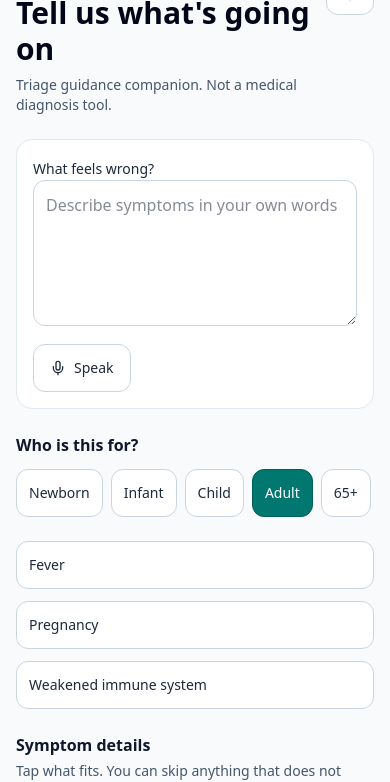
it: IntakeCanvas consumer flow › shows the actionable BYOK failure message without technical details
The image size is (390, 782).
Type "mild headache" into the text box labelled "What feels wrong?" at (195, 253), box [33, 180, 357, 326]
(page scrolled)
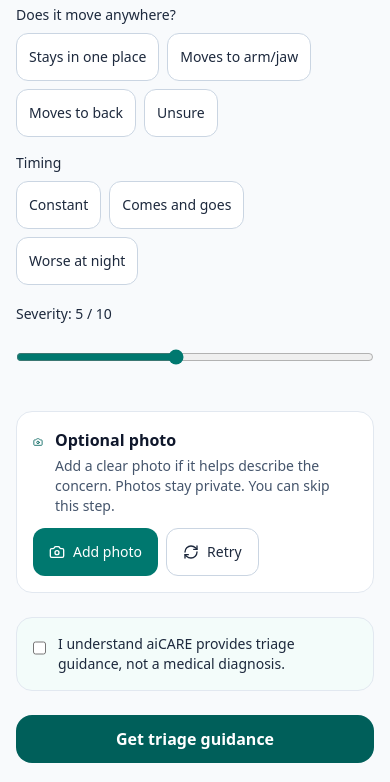
Click the checkbox at (40, 648), box [33, 638, 46, 658]
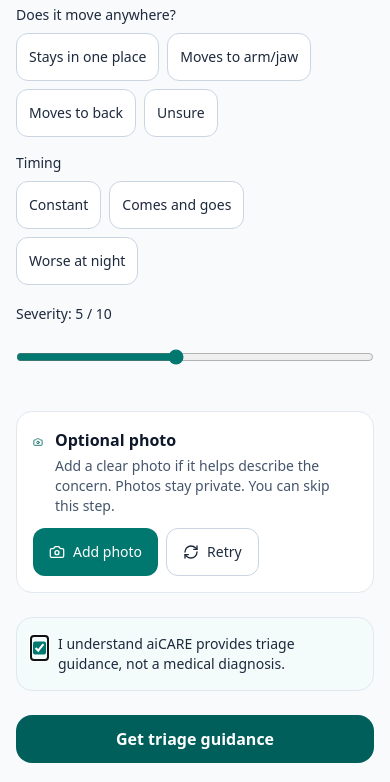
Click the button "Get triage guidance" at (195, 739), box [16, 715, 374, 763]
(page scrolled)
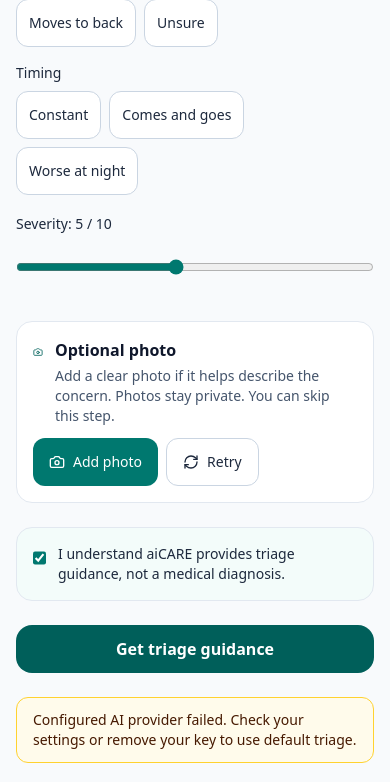
Expected: the message shows "Configured AI provider failed. Check your settings or remove your key to use default triage.", [33, 710, 356, 749]
